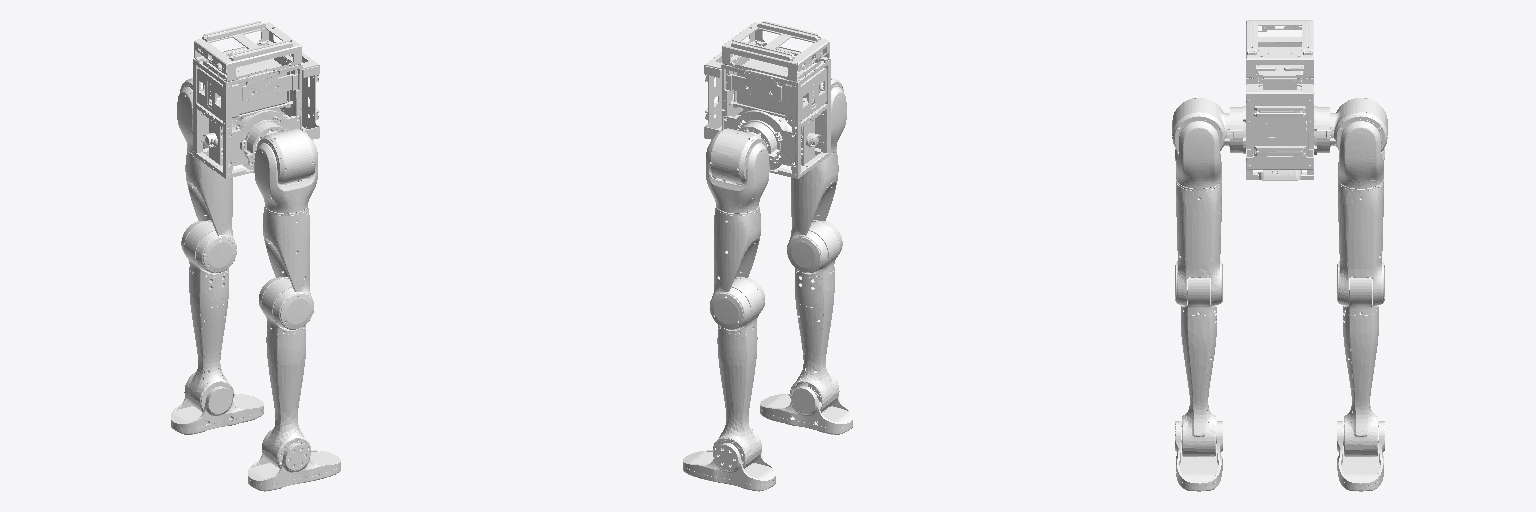
URDF robot description (bipedal_robot):
<?xml version="1.0"?>
<robot name="bipedal_robot">

  <!-- Materials -->
  <material name="grey">
    <color rgba="1 1 1 1"/>
  </material>
  <material name="white">
    <color rgba="1.0 1.0 1.0 1.0"/>
  </material>

  <material name="orange">
    <color rgba="1.0 0.423 0.039 1.0"/>
  </material>

<!-- ros_control plugin -->
  <gazebo>
    <plugin filename="libtron2_hw_sim.so" name="gazebo_ros_control">
      <robotNamespace>/</robotNamespace>
      <robotParam>robot_description</robotParam>
      <robotSimType>tron2_gazebo/Tron2HWSim</robotSimType>
    </plugin>
  </gazebo>

  <!-- Ground truth pose plugin -->
  <gazebo>
    <plugin filename="libgazebo_ros_p3d.so" name="p3d_base_controller">
      <alwaysOn>true</alwaysOn>
      <updateRate>1000.0</updateRate>
      <bodyName>base_Link</bodyName>
      <topicName>ground_truth/state</topicName>
      <gaussianNoise>0</gaussianNoise>
      <frameName>world</frameName>
      <xyzOffsets>0 0 0</xyzOffsets>
      <rpyOffsets>0 0 0</rpyOffsets>
    </plugin>
  </gazebo>
  <!-- Links -->
  <!-- IMU Link -->
  <joint name="limx_imu_joint" type="fixed">
    <origin rpy="0. 0. 0." xyz="0. 0. 0."/>
    <parent link="base_Link"/>
    <child link="limx_imu"/>
  </joint>

  <link name="limx_imu">
    <inertial>
      <mass value="0.01"/>
      <origin rpy="0 0 0" xyz="0 0 0"/>
      <inertia ixx="0.000001" ixy="0" ixz="0" iyy="0.000001" iyz="0" izz="0.000001"/>
    </inertial>
    <visual>
      <origin rpy="0 0 0" xyz="0 0 0"/>
      <geometry>
        <box size="0.015 0.015 0.004"/>
      </geometry>
      <material name="orange"/>
    </visual>
  </link>

  <gazebo reference="limx_imu_joint">
    <disableFixedJointLumping>true</disableFixedJointLumping>
  </gazebo>

  <link name="base_Link">
    <inertial>
      <origin xyz="6.56E-03 1.00E-03 120.55E-03" rpy="0 0 0"/>
      <mass value="10.94"/>
      <inertia ixx="108145.92E-06" ixy="704.38E-06" ixz="1803.29E-06"
               iyy="111887.60E-06" iyz="1102.26E-06" izz="79680.23E-06"/>
    </inertial>
    <visual>
      <origin xyz="0 0 0" rpy="0 0 0"/>
      <geometry>
        <mesh filename="../meshes/base_Link.STL"/>
      </geometry>
      <material name="grey"/>
    </visual>
    <collision>
      <origin xyz="0 0 0" rpy="0 0 0"/>
      <geometry>
        <mesh filename="../meshes/base_Link.STL"/>
      </geometry>
    </collision>
  </link>

  <link name="abad_L_Link">
    <inertial>
      <origin xyz="-5.85E-03 66.36E-03 -0.40E-03" rpy="0 0 0"/>
      <mass value="2.16"/>
      <inertia ixx="4618.32E-06" ixy="6.91E-06" ixz="8.37E-06"
               iyy="3626.60E-06" iyz="1.88E-06" izz="3719.21E-06"/>
    </inertial>
    <visual>
      <origin xyz="0 0 0" rpy="0 0 0"/>
      <geometry>
        <mesh filename="../meshes/abad_L_Link.STL"/>
      </geometry>
      <material name="grey"/>
    </visual>
    <collision>
      <origin xyz="0 0 0" rpy="0 0 0"/>
      <geometry>
        <mesh filename="../meshes/abad_L_Link.STL"/>
      </geometry>
    </collision>
  </link>

  <link name="hip_L_Link">
    <inertial>
      <origin xyz="34.54E-03 0.74E-03 -55.37E-03" rpy="0 0 0"/>
      <mass value="0.62"/>
      <inertia ixx="1619.88E-06" ixy="-6.77E-06" ixz="59.21E-06"
               iyy="2291.05E-06" iyz="-2.59E-06" izz="1633.77E-06"/>
    </inertial>
    <visual>
      <origin xyz="0 0 0" rpy="0 0 0"/>
      <geometry>
        <mesh filename="../meshes/hip_L_Link.STL"/>
      </geometry>
      <material name="grey"/>
    </visual>
    <collision>
      <origin xyz="0 0 0" rpy="0 0 0"/>
      <geometry>
        <mesh filename="../meshes/hip_L_Link.STL"/>
      </geometry>
    </collision>
  </link>

  <link name="yaw_L_Link">
    <inertial>
      <origin xyz="2.94E-03 -0.09E-03 -82.63E-03" rpy="0 0 0"/>
      <mass value="1.82"/>
      <inertia ixx="14071.04E-06" ixy="-1.81E-06" ixz="379.81E-06"
               iyy="13712.50E-06" iyz="-33.38E-06" izz="3049.24E-06"/>
    </inertial>
    <visual>
      <origin xyz="0 0 0" rpy="0 0 0"/>
      <geometry>
        <mesh filename="../meshes/yaw_L_Link.STL"/>
      </geometry>
      <material name="grey"/>
    </visual>
    <collision>
      <origin xyz="0 0 0" rpy="0 0 0"/>
      <geometry>
        <mesh filename="../meshes/yaw_L_Link.STL"/>
      </geometry>
    </collision>
  </link>

  <link name="knee_L_Link">
    <inertial>
      <origin xyz="0.24E-03 34.39E-03 -149.48E-03" rpy="0 0 0"/>
      <mass value="3.39"/>
      <inertia ixx="76325.31E-06" ixy="18.90E-06" ixz="69.76E-06"
               iyy="76856.07E-06" iyz="750.49E-06" izz="3849.86E-06"/>
    </inertial>
    <visual>
      <origin xyz="0 0 0" rpy="0 0 0"/>
      <geometry>
        <mesh filename="../meshes/knee_L_Link.STL"/>
      </geometry>
      <material name="grey"/>
    </visual>
    <collision>
      <origin xyz="0 0 0" rpy="0 0 0"/>
      <geometry>
        <mesh filename="../meshes/knee_L_Link.STL"/>
      </geometry>
    </collision>
  </link>

  <link name="foot_L_Link">
    <inertial>
      <origin xyz="16.91E-03 -35.89E-03 -44.54E-03" rpy="0 0 0"/>
      <mass value="0.90"/>
      <inertia ixx="1251.64E-06" ixy="18.43E-06" ixz="147.38E-06"
               iyy="2964.03E-06" iyz="-86.93E-06" izz="3346.69E-06"/>
    </inertial>
    <visual>
      <origin xyz="0 0 0" rpy="0 0 0"/>
      <geometry>
        <mesh filename="../meshes/foot_L_Link.STL"/>
      </geometry>
      <material name="grey"/>
    </visual>
    <collision>
      <origin xyz="0 0 0" rpy="0 0 0"/>
      <geometry>
        <mesh filename="../meshes/foot_L_Link.STL"/>
      </geometry>
    </collision>
  </link>

  <link name="yaw_R_Link">
    <inertial>
      <origin xyz="0.00294 9e-05 -0.08263" rpy="0 0 0"/>
      <mass value="1.82"/>
      <inertia ixx="0.01407104" ixy="1.81e-06" ixz="0.00037981"
               iyy="0.0137125" iyz="3.338e-05" izz="0.00304924"/>
    </inertial>
    <visual>
      <origin xyz="0 0 0" rpy="0 0 0"/>
      <geometry>
        <mesh filename="../meshes/yaw_R_Link.STL"/>
      </geometry>
      <material name="grey"/>
    </visual>
    <collision>
      <origin xyz="0 0 0" rpy="0 0 0"/>
      <geometry>
        <mesh filename="../meshes/yaw_R_Link.STL"/>
      </geometry>
    </collision>
  </link>

  <link name="foot_R_Link">
    <inertial>
      <origin xyz="0.01691 0.03589 -0.04454" rpy="0 0 0"/>
      <mass value="0.90"/>
      <inertia ixx="0.00125164" ixy="-1.843e-05" ixz="0.00014738"
               iyy="0.00296403" iyz="8.693e-05" izz="0.00334669"/>
    </inertial>
    <visual>
      <origin xyz="0 0 0" rpy="0 0 0"/>
      <geometry>
        <mesh filename="../meshes/foot_R_Link.STL"/>
      </geometry>
      <material name="grey"/>
    </visual>
    <collision>
      <origin xyz="0 0 0" rpy="0 0 0"/>
      <geometry>
        <mesh filename="../meshes/foot_R_Link.STL"/>
      </geometry>
    </collision>
  </link>

  <link name="hip_R_Link">
    <inertial>
      <origin xyz="0.03454 -0.00074 -0.05537" rpy="0 0 0"/>
      <mass value="0.62"/>
      <inertia ixx="0.00161988" ixy="6.77e-06" ixz="5.921e-05"
               iyy="0.00229105" iyz="2.59e-06" izz="0.00163377"/>
    </inertial>
    <visual>
      <origin xyz="0 0 0" rpy="0 0 0"/>
      <geometry>
        <mesh filename="../meshes/hip_R_Link.STL"/>
      </geometry>
      <material name="grey"/>
    </visual>
    <collision>
      <origin xyz="0 0 0" rpy="0 0 0"/>
      <geometry>
        <mesh filename="../meshes/hip_R_Link.STL"/>
      </geometry>
    </collision>
  </link>

  <link name="knee_R_Link">
    <inertial>
      <origin xyz="0.00024 -0.03439 -0.14948" rpy="0 0 0"/>
      <mass value="3.39"/>
      <inertia ixx="0.07632531" ixy="-1.89e-05" ixz="6.976e-05"
               iyy="0.07685607" iyz="-0.00075049" izz="0.00384986"/>
    </inertial>
    <visual>
      <origin xyz="0 0 0" rpy="0 0 0"/>
      <geometry>
        <mesh filename="../meshes/knee_R_Link.STL"/>
      </geometry>
      <material name="grey"/>
    </visual>
    <collision>
      <origin xyz="0 0 0" rpy="0 0 0"/>
      <geometry>
        <mesh filename="../meshes/knee_R_Link.STL"/>
      </geometry>
    </collision>
  </link>

  <link name="abad_R_Link">
    <inertial>
      <origin xyz="-0.00585 -0.06636 -0.0004" rpy="0 0 0"/>
      <mass value="2.16"/>
      <inertia ixx="0.00461832" ixy="-6.91e-06" ixz="8.37e-06"
               iyy="0.0036266" iyz="-1.88e-06" izz="0.00371921"/>
    </inertial>
    <visual>
      <origin xyz="0 0 0" rpy="0 0 0"/>
      <geometry>
        <mesh filename="../meshes/abad_R_Link.STL"/>
      </geometry>
      <material name="grey"/>
    </visual>
    <collision>
      <origin xyz="0 0 0" rpy="0 0 0"/>
      <geometry>
        <mesh filename="../meshes/abad_R_Link.STL"/>
      </geometry>
    </collision>
  </link>

  <!-- Joints -->
  <joint name="abad_L_Joint" type="revolute">
    <origin xyz="-0.00045 0.09949 0.06046" rpy="0 0 0"/>
    <parent link="base_Link"/>
    <child link="abad_L_Link"/>
    <axis xyz="0 1 0"/>
    <limit lower="-3.141592653589793" upper="2.600540585471551" effort="130" velocity="12.57"/>
  </joint>

  <joint name="hip_L_Joint" type="revolute">
    <origin xyz="-0.0416 0.0681 0.0" rpy="0 0 0"/>
    <parent link="abad_L_Link"/>
    <child link="hip_L_Link"/>
    <axis xyz="1 0 0"/>
    <limit lower="-0.2617993877991494" upper="2.9670597283903604" effort="130" velocity="12.57"/>
  </joint>

  <joint name="yaw_L_Joint" type="revolute">
    <origin xyz="0.0416 0.0 -0.1142" rpy="0 0 0"/>
    <parent link="hip_L_Link"/>
    <child link="yaw_L_Link"/>
    <axis xyz="0 0 1"/>
    <limit lower="-0.5235987755982988" upper="4.625122517784973" effort="60" velocity="14.66"/>
  </joint>

  <joint name="knee_L_Joint" type="revolute">
    <origin xyz="0.0 -0.03432 -0.2366" rpy="0 0 0"/>
    <parent link="yaw_L_Link"/>
    <child link="knee_L_Link"/>
    <axis xyz="0 1 0"/>
    <limit lower="-0.5235987755982988" upper="2.6179938779914944" effort="60" velocity="14.66"/>
  </joint>

  <joint name="foot_L_Joint" type="revolute">
    <origin xyz="0.0 0.07148 -0.35" rpy="0 0 0"/>
    <parent link="knee_L_Link"/>
    <child link="foot_L_Link"/>
    <axis xyz="0 1 0"/>
    <limit lower="-1.6929693744344996" upper="1.6929693744344996" effort="40" velocity="31.83"/>
  </joint>

  <joint name="hip_R_Joint" type="revolute">
    <origin xyz="-0.0416 -0.0681 0.0" rpy="0 0 0"/>
    <parent link="abad_R_Link"/>
    <child link="hip_R_Link"/>
    <axis xyz="1 0 0"/>
    <limit lower="-2.9670597283903604" upper="0.2617993877991494" effort="130" velocity="12.57"/>
  </joint>

  <joint name="foot_R_Joint" type="revolute">
    <origin xyz="0.0 -0.07148 -0.35" rpy="0 0 0"/>
    <parent link="knee_R_Link"/>
    <child link="foot_R_Link"/>
    <axis xyz="0 1 0"/>
    <limit lower="-1.6929693744344996" upper="1.6929693744344996" effort="40" velocity="31.83"/>
  </joint>

  <joint name="yaw_R_Joint" type="revolute">
    <origin xyz="0.0416 -0.0 -0.1142" rpy="0 0 0"/>
    <parent link="hip_R_Link"/>
    <child link="yaw_R_Link"/>
    <axis xyz="0 0 1"/>
    <limit lower="-4.625122517784973" upper="0.5235987755982988" effort="60" velocity="14.66"/>
  </joint>

  <joint name="knee_R_Joint" type="revolute">
    <origin xyz="0.0 0.03432 -0.2366" rpy="0 0 0"/>
    <parent link="yaw_R_Link"/>
    <child link="knee_R_Link"/>
    <axis xyz="0 1 0"/>
    <limit lower="-0.5235987755982988" upper="2.6179938779914944" effort="60" velocity="14.66"/>
  </joint>

  <joint name="abad_R_Joint" type="revolute">
    <origin xyz="-0.00045 -0.09949 0.06046" rpy="0 0 0"/>
    <parent link="base_Link"/>
    <child link="abad_R_Link"/>
    <axis xyz="0 1 0"/>
    <limit lower="-3.141592653589793" upper="2.600540585471551" effort="130" velocity="12.57"/>
  </joint>

  <gazebo reference="hip_R_Link">
    <mu1>0.2</mu1>
    <mu2>0.2</mu2>
    <material>Gazebo/DarkGrey</material>
  </gazebo>

  <gazebo reference="foot_R_Link">
    <mu1>2.0</mu1>
    <mu2>2.0</mu2>
    <self_collide>1</self_collide>
    <material>Gazebo/DarkGrey</material>
    <kp value="1000000.0"/>
    <kd value="100.0"/>
  </gazebo>

  <gazebo reference="knee_R_Link">
    <mu1>0.2</mu1>
    <mu2>0.2</mu2>
    <self_collide>0</self_collide>
    <material>Gazebo/DarkGrey</material>
    <kp value="1000000.0"/>
    <kd value="100.0"/>
  </gazebo>

  <gazebo reference="yaw_L_Link">
    <mu1>0.2</mu1>
    <mu2>0.2</mu2>
    <material>Gazebo/White</material>
  </gazebo>

  <gazebo reference="foot_L_Link">
    <mu1>2.0</mu1>
    <mu2>2.0</mu2>
    <self_collide>1</self_collide>
    <material>Gazebo/DarkGrey</material>
    <kp value="1000000.0"/>
    <kd value="100.0"/>
  </gazebo>

  <gazebo reference="yaw_R_Link">
    <mu1>0.2</mu1>
    <mu2>0.2</mu2>
    <material>Gazebo/White</material>
  </gazebo>

  <gazebo reference="hip_L_Link">
    <mu1>0.2</mu1>
    <mu2>0.2</mu2>
    <material>Gazebo/DarkGrey</material>
  </gazebo>

  <gazebo reference="knee_L_Link">
    <mu1>0.2</mu1>
    <mu2>0.2</mu2>
    <self_collide>0</self_collide>
    <material>Gazebo/DarkGrey</material>
    <kp value="1000000.0"/>
    <kd value="100.0"/>
  </gazebo>

  <gazebo reference="abad_R_Link">
    <mu1>0.2</mu1>
    <mu2>0.2</mu2>
    <material>Gazebo/DarkGrey</material>
  </gazebo>

  <gazebo reference="abad_L_Link">
    <mu1>0.2</mu1>
    <mu2>0.2</mu2>
    <material>Gazebo/DarkGrey</material>
  </gazebo>

  <!-- Transmissions -->
  <transmission name="hip_L_Joint_trans">
    <type>transmission_interface/SimpleTransmission</type>
    <joint name="hip_L_Joint">
      <hardwareInterface>hardware_interface/EffortJointInterface</hardwareInterface>
    </joint>
    <actuator name="hip_L_Joint_motor">
      <hardwareInterface>hardware_interface/EffortJointInterface</hardwareInterface>
      <mechanicalReduction>1</mechanicalReduction>
    </actuator>
  </transmission>

  <transmission name="foot_L_Joint_trans">
    <type>transmission_interface/SimpleTransmission</type>
    <joint name="foot_L_Joint">
      <hardwareInterface>hardware_interface/EffortJointInterface</hardwareInterface>
    </joint>
    <actuator name="foot_L_Joint_motor">
      <hardwareInterface>hardware_interface/EffortJointInterface</hardwareInterface>
      <mechanicalReduction>1</mechanicalReduction>
    </actuator>
  </transmission>

  <transmission name="yaw_L_Joint_trans">
    <type>transmission_interface/SimpleTransmission</type>
    <joint name="yaw_L_Joint">
      <hardwareInterface>hardware_interface/EffortJointInterface</hardwareInterface>
    </joint>
    <actuator name="yaw_L_Joint_motor">
      <hardwareInterface>hardware_interface/EffortJointInterface</hardwareInterface>
      <mechanicalReduction>1</mechanicalReduction>
    </actuator>
  </transmission>

  <transmission name="knee_R_Joint_trans">
    <type>transmission_interface/SimpleTransmission</type>
    <joint name="knee_R_Joint">
      <hardwareInterface>hardware_interface/EffortJointInterface</hardwareInterface>
    </joint>
    <actuator name="knee_R_Joint_motor">
      <hardwareInterface>hardware_interface/EffortJointInterface</hardwareInterface>
      <mechanicalReduction>1</mechanicalReduction>
    </actuator>
  </transmission>

  <transmission name="foot_R_Joint_trans">
    <type>transmission_interface/SimpleTransmission</type>
    <joint name="foot_R_Joint">
      <hardwareInterface>hardware_interface/EffortJointInterface</hardwareInterface>
    </joint>
    <actuator name="foot_R_Joint_motor">
      <hardwareInterface>hardware_interface/EffortJointInterface</hardwareInterface>
      <mechanicalReduction>1</mechanicalReduction>
    </actuator>
  </transmission>

  <transmission name="knee_L_Joint_trans">
    <type>transmission_interface/SimpleTransmission</type>
    <joint name="knee_L_Joint">
      <hardwareInterface>hardware_interface/EffortJointInterface</hardwareInterface>
    </joint>
    <actuator name="knee_L_Joint_motor">
      <hardwareInterface>hardware_interface/EffortJointInterface</hardwareInterface>
      <mechanicalReduction>1</mechanicalReduction>
    </actuator>
  </transmission>

  <transmission name="hip_R_Joint_trans">
    <type>transmission_interface/SimpleTransmission</type>
    <joint name="hip_R_Joint">
      <hardwareInterface>hardware_interface/EffortJointInterface</hardwareInterface>
    </joint>
    <actuator name="hip_R_Joint_motor">
      <hardwareInterface>hardware_interface/EffortJointInterface</hardwareInterface>
      <mechanicalReduction>1</mechanicalReduction>
    </actuator>
  </transmission>

  <transmission name="abad_L_Joint_trans">
    <type>transmission_interface/SimpleTransmission</type>
    <joint name="abad_L_Joint">
      <hardwareInterface>hardware_interface/EffortJointInterface</hardwareInterface>
    </joint>
    <actuator name="abad_L_Joint_motor">
      <hardwareInterface>hardware_interface/EffortJointInterface</hardwareInterface>
      <mechanicalReduction>1</mechanicalReduction>
    </actuator>
  </transmission>

  <transmission name="yaw_R_Joint_trans">
    <type>transmission_interface/SimpleTransmission</type>
    <joint name="yaw_R_Joint">
      <hardwareInterface>hardware_interface/EffortJointInterface</hardwareInterface>
    </joint>
    <actuator name="yaw_R_Joint_motor">
      <hardwareInterface>hardware_interface/EffortJointInterface</hardwareInterface>
      <mechanicalReduction>1</mechanicalReduction>
    </actuator>
  </transmission>

  <transmission name="abad_R_Joint_trans">
    <type>transmission_interface/SimpleTransmission</type>
    <joint name="abad_R_Joint">
      <hardwareInterface>hardware_interface/EffortJointInterface</hardwareInterface>
    </joint>
    <actuator name="abad_R_Joint_motor">
      <hardwareInterface>hardware_interface/EffortJointInterface</hardwareInterface>
      <mechanicalReduction>1</mechanicalReduction>
    </actuator>
  </transmission>

</robot>

--- What the picture shows (computed from the rendered views, not written in the file) ---
3 views of the same robot in one strip: view 1: azimuth 30°, elevation 25°; view 2: azimuth 150°, elevation 25°; view 3: azimuth 270°, elevation 25° (orthographic).
Model bipedal_robot with 12 links and 11 joints (10 revolute, 1 fixed), rooted at base_Link, posed all joints at 0.
Links seen in each view (by area): view 1: base_Link, knee_L_Link, knee_R_Link, yaw_R_Link, yaw_L_Link, foot_R_Link, foot_L_Link, hip_R_Link, abad_R_Link, hip_L_Link; view 2: base_Link, knee_L_Link, knee_R_Link, yaw_L_Link, yaw_R_Link, foot_R_Link, foot_L_Link, hip_L_Link, abad_L_Link, hip_R_Link; view 3: base_Link, knee_L_Link, knee_R_Link, yaw_R_Link, yaw_L_Link, hip_L_Link, hip_R_Link, foot_R_Link, foot_L_Link, abad_L_Link, abad_R_Link.
Link boxes in pixels (x1,y1,x2,y2): base_Link: (193, 21, 319, 178); knee_L_Link: (184, 222, 233, 412); knee_R_Link: (262, 278, 310, 468); yaw_R_Link: (259, 207, 313, 329); yaw_L_Link: (181, 149, 236, 272); foot_R_Link: (248, 443, 340, 491); foot_L_Link: (171, 386, 263, 434); hip_R_Link: (254, 138, 317, 213); abad_R_Link: (257, 128, 315, 183); hip_L_Link: (177, 87, 236, 155); base_Link: (704, 21, 830, 178); knee_L_Link: (713, 278, 761, 468); knee_R_Link: (790, 222, 839, 412); yaw_L_Link: (710, 207, 764, 329); yaw_R_Link: (787, 149, 842, 272); foot_R_Link: (760, 385, 852, 434); foot_L_Link: (683, 443, 775, 491); hip_L_Link: (706, 138, 769, 213); abad_L_Link: (708, 128, 766, 184); hip_R_Link: (787, 87, 846, 155); base_Link: (1227, 20, 1330, 180); knee_L_Link: (1343, 277, 1378, 456); knee_R_Link: (1181, 277, 1216, 456); yaw_R_Link: (1175, 180, 1222, 305); yaw_L_Link: (1337, 180, 1384, 305); hip_L_Link: (1338, 121, 1384, 188); hip_R_Link: (1175, 121, 1221, 188); foot_R_Link: (1175, 421, 1222, 491); foot_L_Link: (1337, 421, 1384, 491); abad_L_Link: (1330, 98, 1387, 151); abad_R_Link: (1172, 98, 1229, 151).
Size in the robot's own frame: 0.2555 by 0.4469 by 0.9903 metres.
Meshes: 11 distinct files referenced, 11 mesh visuals loaded (11 binary STL).
